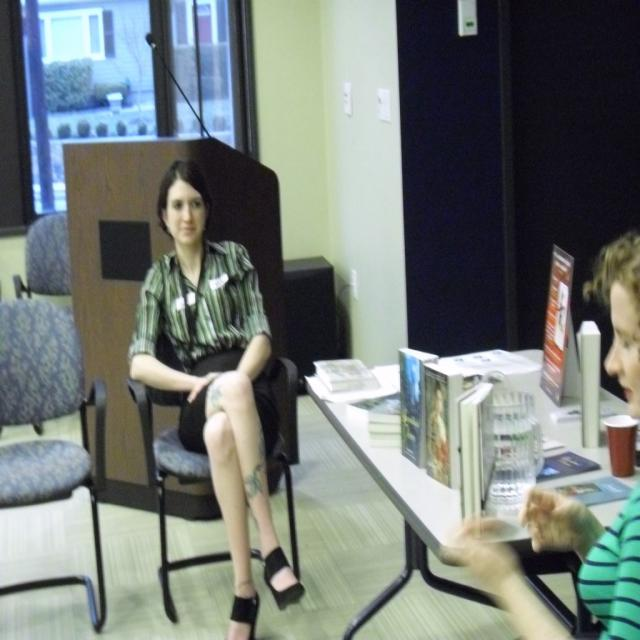chair: (1, 300, 108, 635), (13, 212, 72, 306)
desk: (306, 348, 640, 640)
person: (127, 163, 302, 637), (450, 226, 640, 640)
